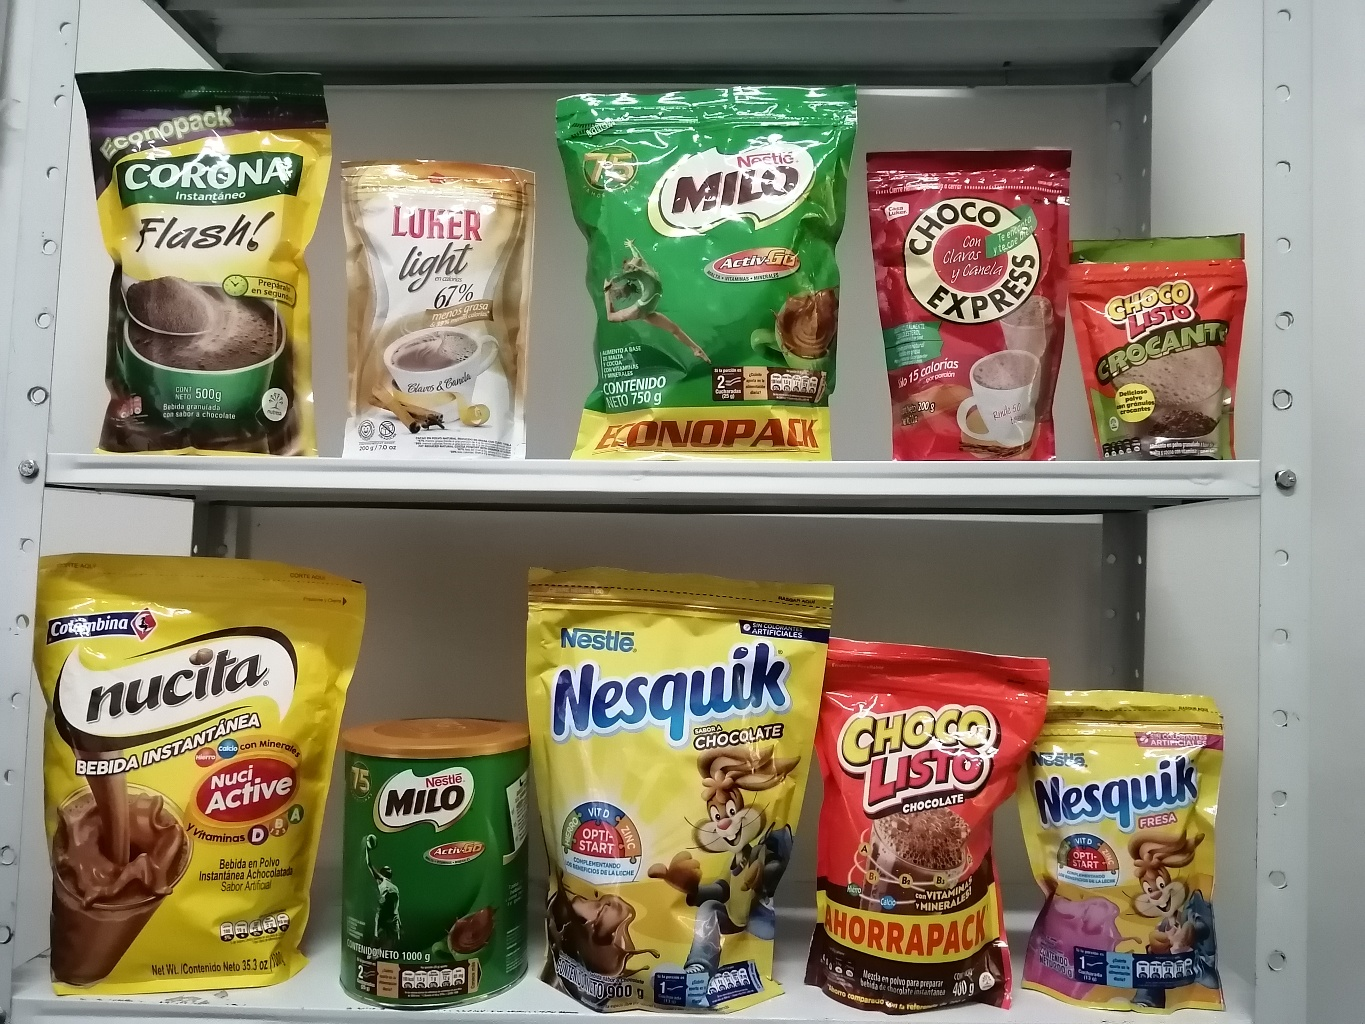COL0170102DYP10000: (1065, 238, 1245, 451)
COL0170103DYP40000: (814, 629, 1053, 1011)
COL0170305DYP20000: (1040, 677, 1229, 1008)
